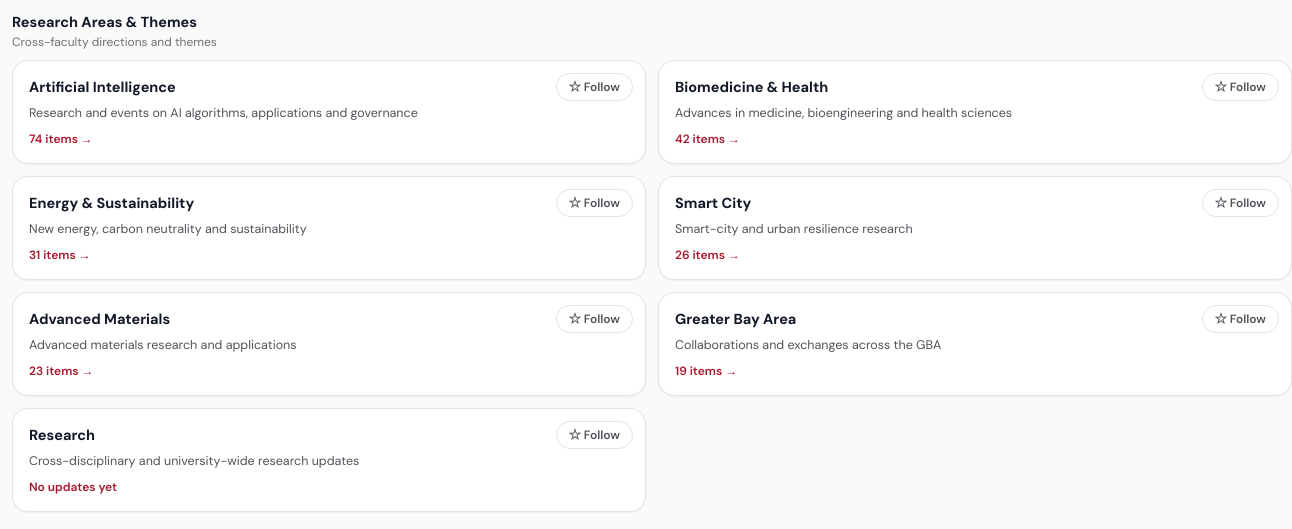
Test case: TopicsGrid › #215 follows in en lang (Follow/Following labels)
The image size is (1292, 529).
// EN 名称不带图标前缀（icon 仅 zh 前缀）
Click the button "☆ Follow" in the row of "Artificial Intelligence". click: point(594, 87)
box: [556,73,633,101]
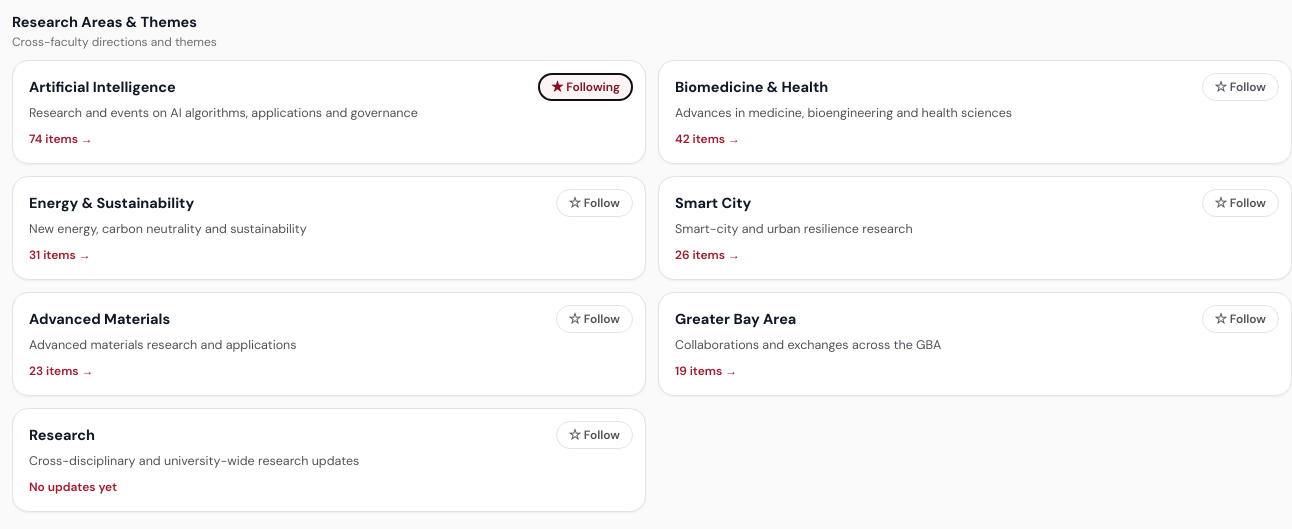
Check: the button "★ Following" is shown, box [538,73,633,101]
